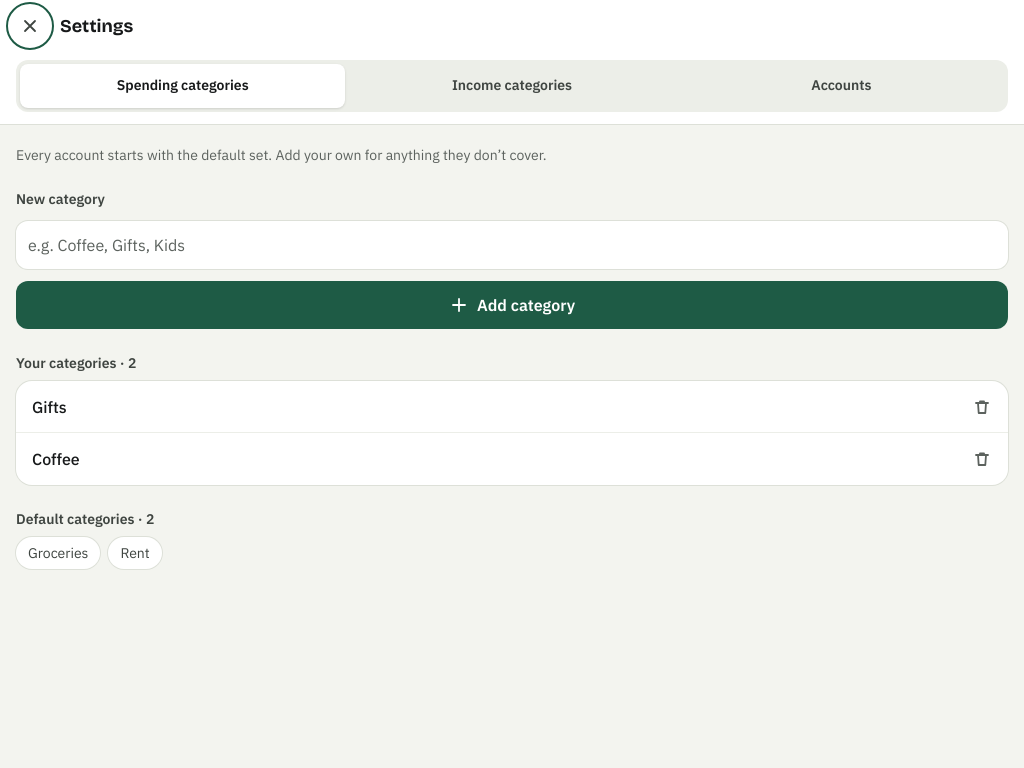
Test case: PhoneSettings — income categories (specs/009) › refuses to remove an account that income uses, naming both counts
Click the button "Accounts": (841,86) [679,64,1004,108]
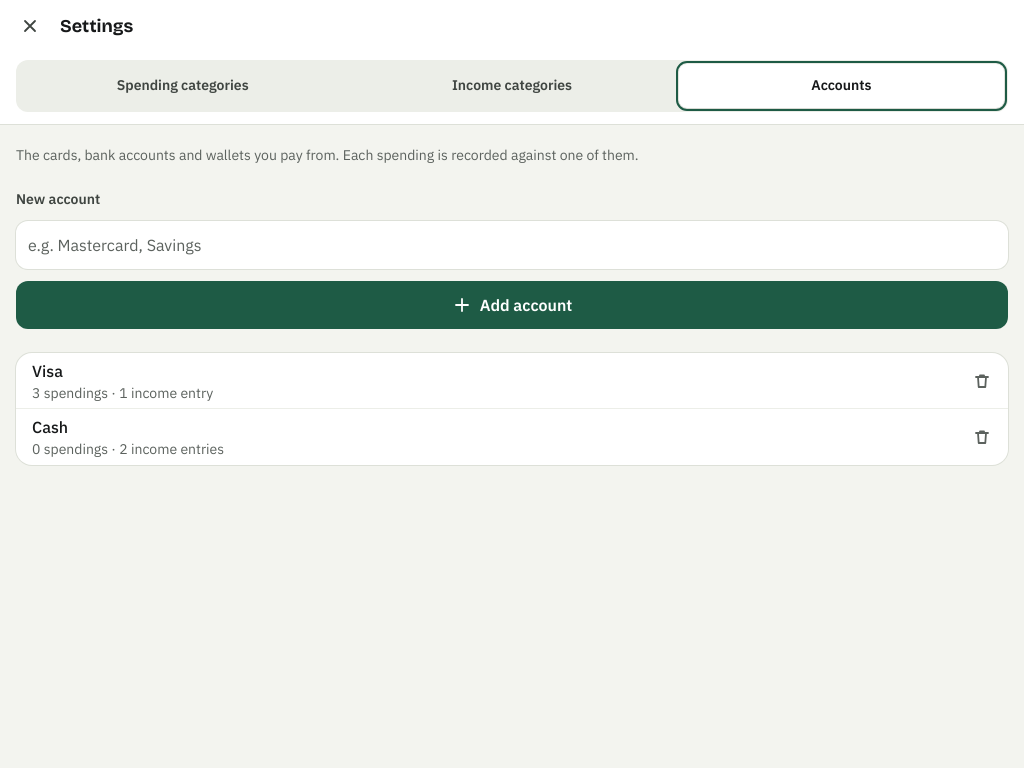
Check: the text "3 spendings · 1 income entry" is shown, box [32,382,213,402]
Click the button named "Remove Cash": (982,437) [960,415,1004,459]
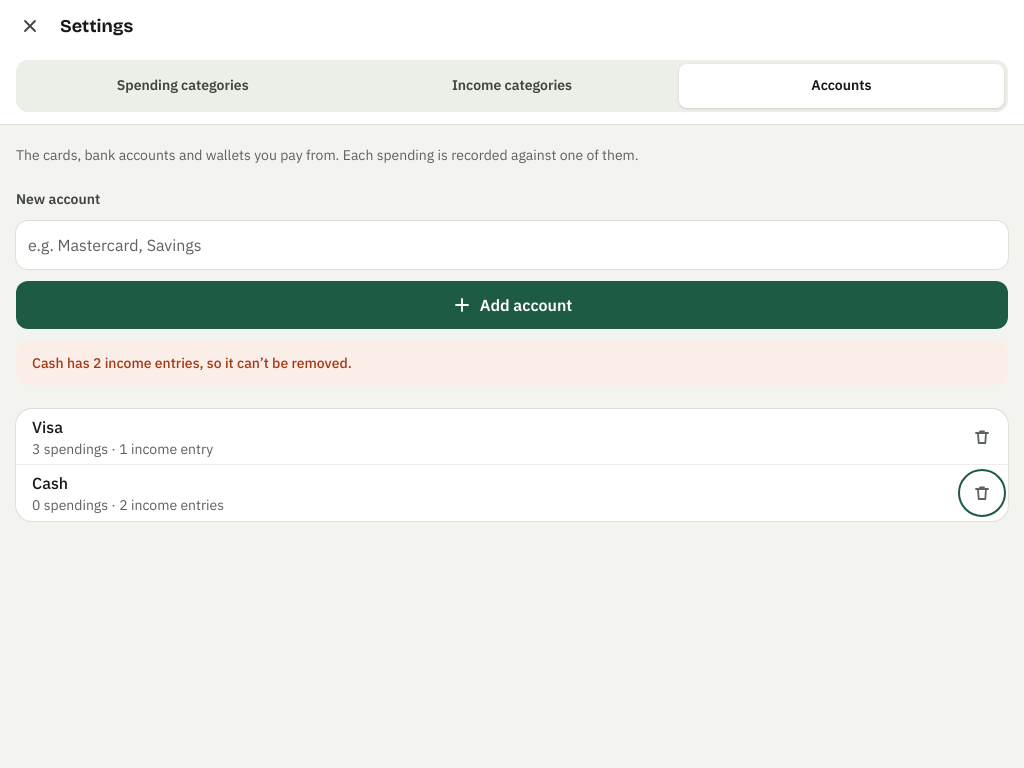
Check: the message reads "Cash has 2 income entries, so it can’t be removed.", box [32,354,352,372]
